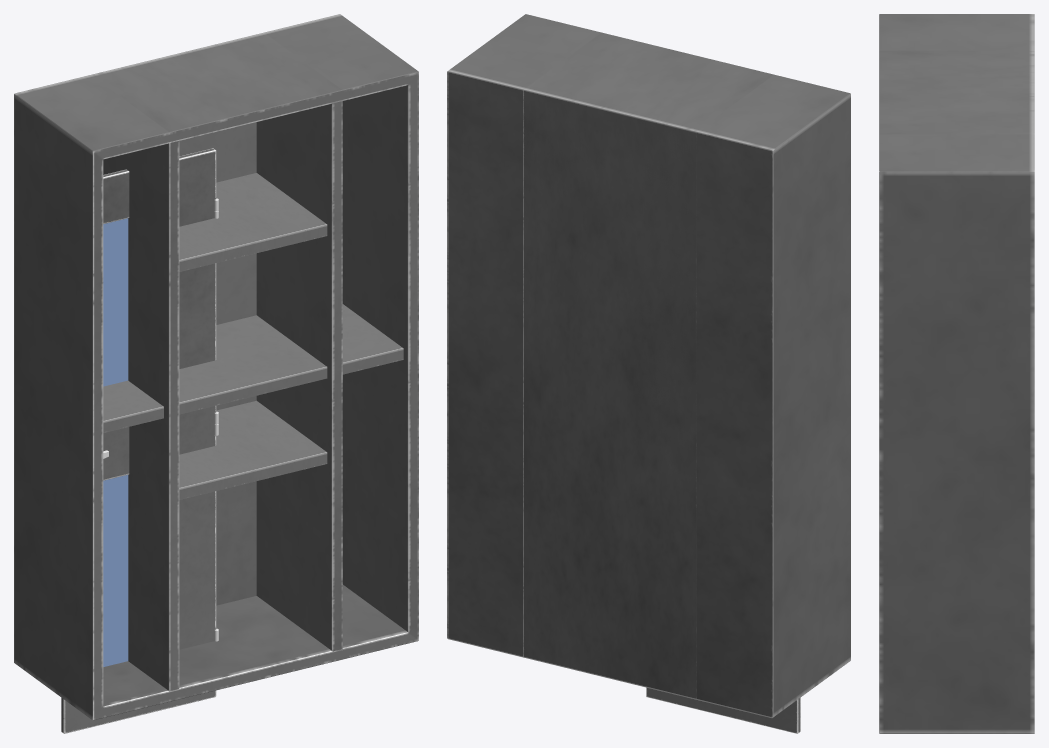
The model's file is Lockers.fbx.
3 views of the same model, side by side, from view 1: azimuth 30°, elevation 25°; view 2: azimuth 150°, elevation 25°; view 3: azimuth 270°, elevation 25° (orthographic).
Parts seen in each view (by area): view 1: big locker body, small locker, big locker left door; view 2: big locker body, small locker, big locker left door; view 3: big locker body, small locker.
Part boxes in pixels (x1=…): big locker body: x1=14, y1=14, x2=418, y2=720; small locker: x1=91, y1=32, x2=342, y2=698; big locker left door: x1=61, y1=148, x2=218, y2=733; big locker body: x1=447, y1=14, x2=850, y2=717; small locker: x1=523, y1=32, x2=773, y2=699; big locker left door: x1=646, y1=687, x2=800, y2=733; big locker body: x1=879, y1=14, x2=1034, y2=733; small locker: x1=879, y1=50, x2=1034, y2=134.
Bounding box in the file's own units: 120 × 216 × 50.
